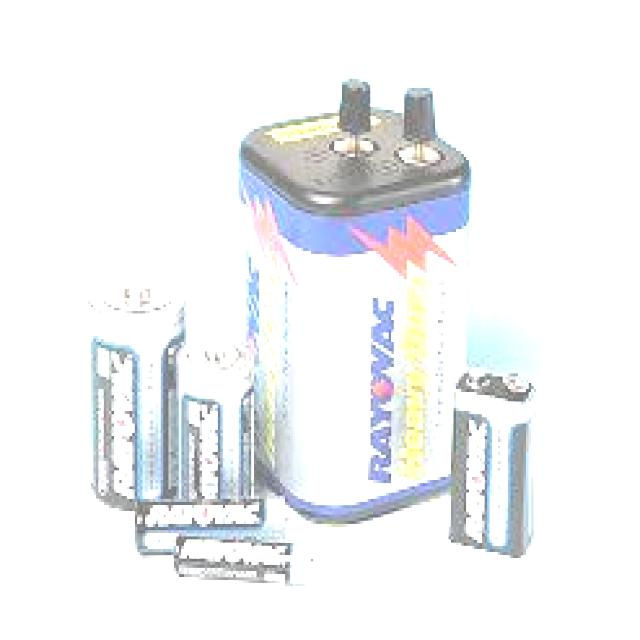9V: (446, 354, 546, 580)
